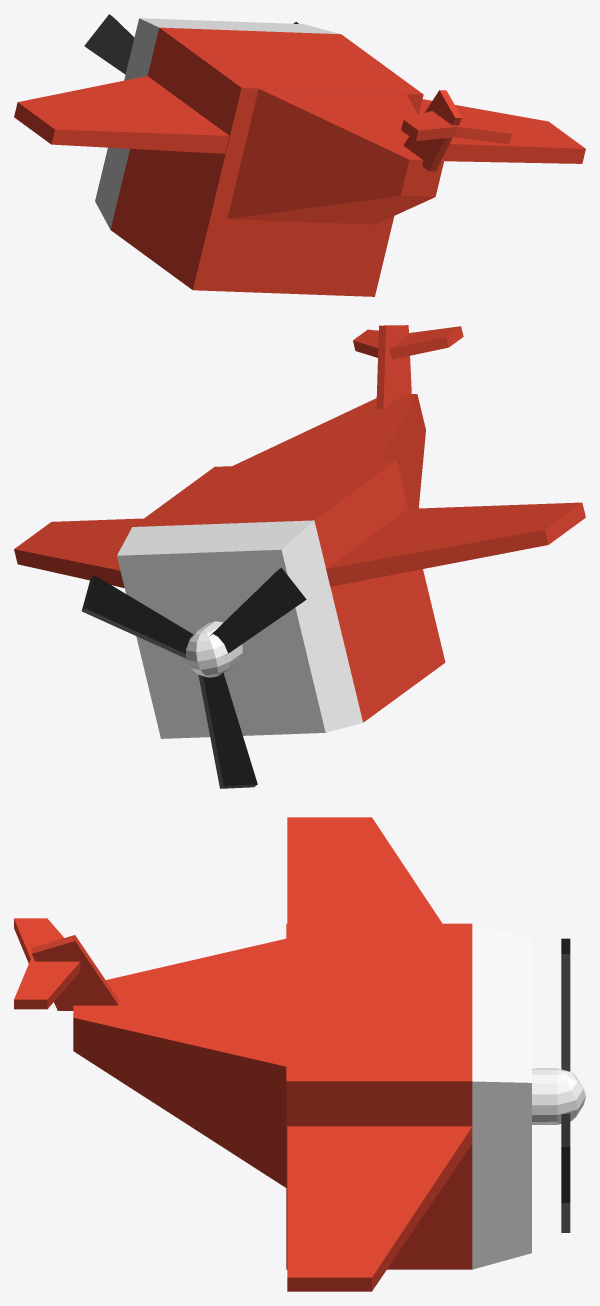
3 views of the same model, one above another, from view 1: azimuth 30°, elevation 25°; view 2: azimuth 150°, elevation 25°; view 3: azimuth 270°, elevation 25° (orthographic). The views are drawn at different scales.
Parts seen in each view (by area): view 1: body, wing, front, tail, tail.001, Plane.002; view 2: body, front, wing, Plane.001, Plane, Plane.002, tail.001, propeller-center, tail; view 3: body, wing, front, tail, tail.001, propeller-center, Plane.002, Plane.001.
Boxes of the visible parts, <box> form: body: <box>110,27,443,296</box>; wing: <box>14,76,585,163</box>; front: <box>95,18,340,229</box>; tail: <box>401,111,511,144</box>; tail.001: <box>403,90,462,171</box>; Plane.002: <box>84,14,134,74</box>; body: <box>133,394,445,722</box>; front: <box>117,520,362,738</box>; wing: <box>14,502,585,587</box>; Plane.001: <box>198,672,257,788</box>; Plane: <box>82,575,193,658</box>; Plane.002: <box>209,567,306,654</box>; tail.001: <box>376,325,411,409</box>; propeller-center: <box>186,621,242,677</box>; tail: <box>353,326,463,359</box>; body: <box>73,923,472,1269</box>; wing: <box>287,817,472,1291</box>; front: <box>472,923,531,1269</box>; tail: <box>14,918,80,1009</box>; tail.001: <box>31,935,118,1010</box>; propeller-center: <box>532,1068,585,1124</box>; Plane.002: <box>561,938,570,1071</box>; Plane.001: <box>561,1147,570,1232</box>.
Bounding box in the file's own units: 3.25 × 1.69 × 2.67.
